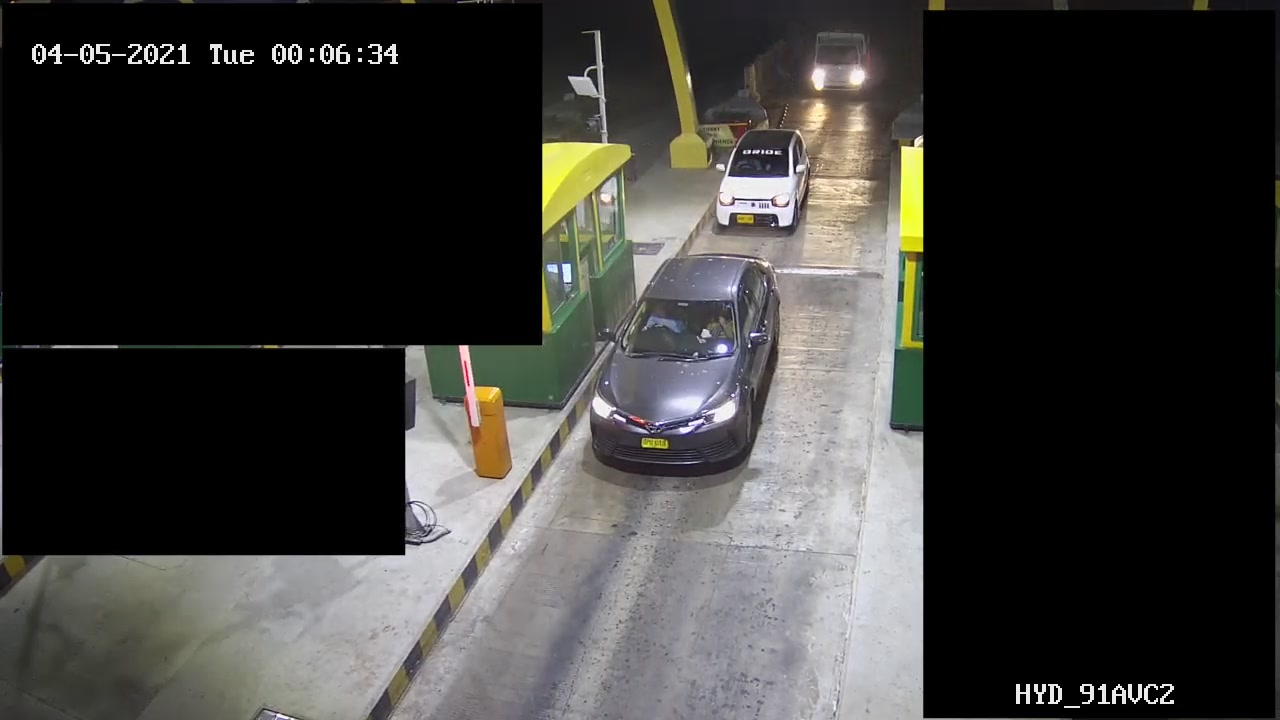F1: (585, 250, 788, 478), (706, 114, 819, 246)
